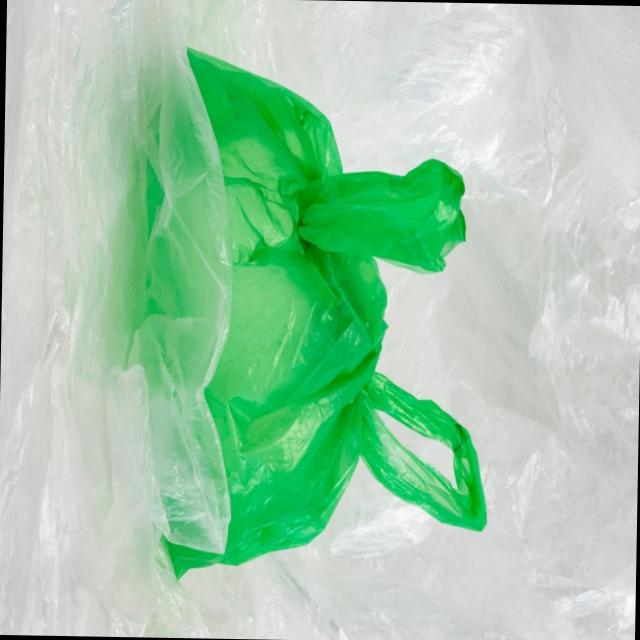plastic_bag: (139, 44, 496, 594)
